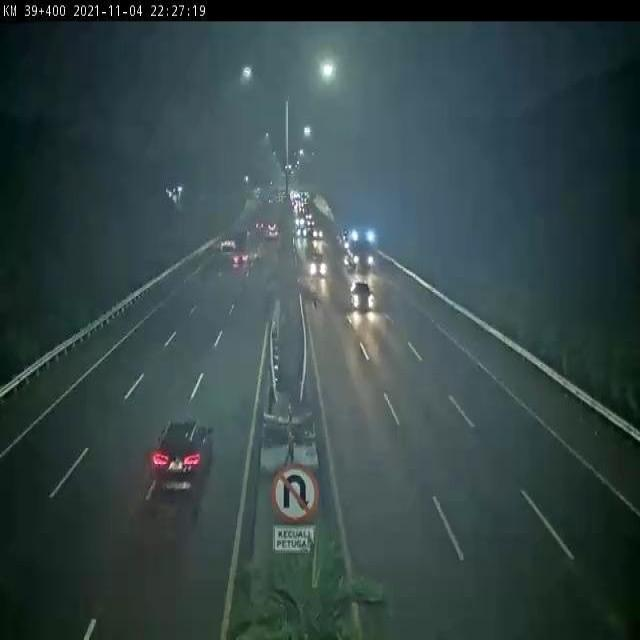car: (151, 424, 210, 491), (349, 277, 374, 311), (308, 252, 327, 277)
truck-m-: (345, 228, 373, 268), (229, 232, 250, 268)
